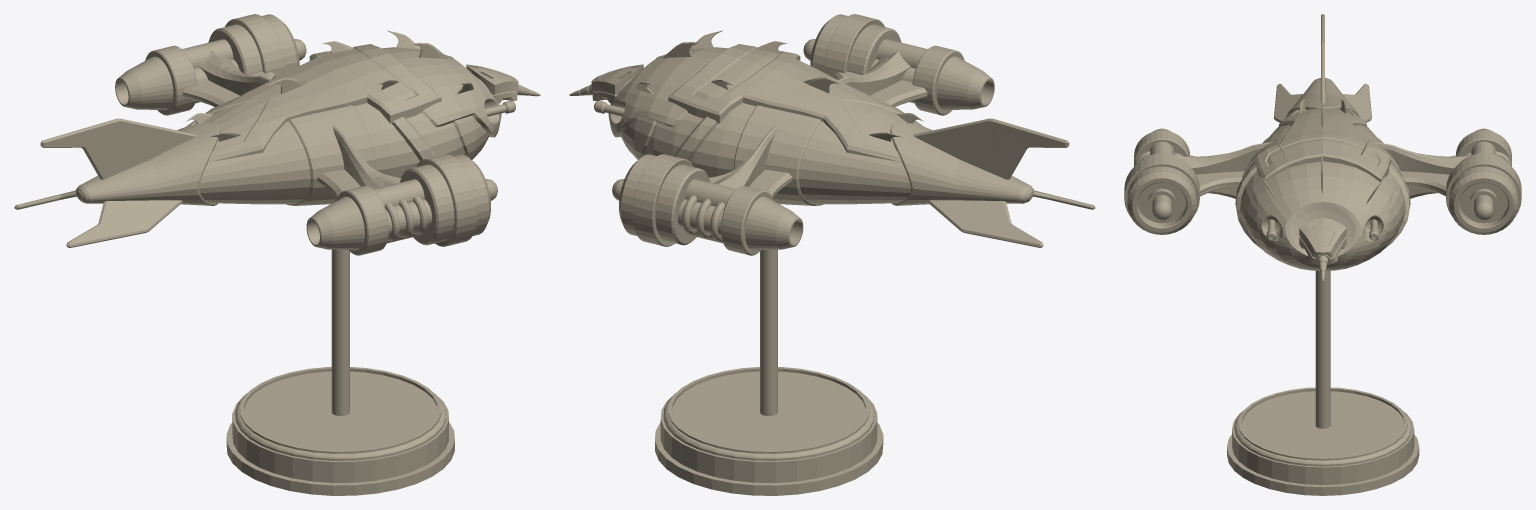
The model's file is aeronave.glb.
3 views of the same model, side by side, from view 1: azimuth 30°, elevation 25°; view 2: azimuth 150°, elevation 25°; view 3: azimuth 270°, elevation 25° (orthographic). The views are drawn at different scales.
Parts seen in each view (by area): view 1: Circle.045_Circle.033_2; view 2: Circle.045_Circle.033_2; view 3: Circle.045_Circle.033_2.
Part boxes in pixels (x1,y1,x2,y2): Circle.045_Circle.033_2: (14, 14, 540, 495); Circle.045_Circle.033_2: (569, 14, 1095, 495); Circle.045_Circle.033_2: (1124, 14, 1521, 495).
Size of the model in its own units: 1.72 by 1.28 by 1.41.
